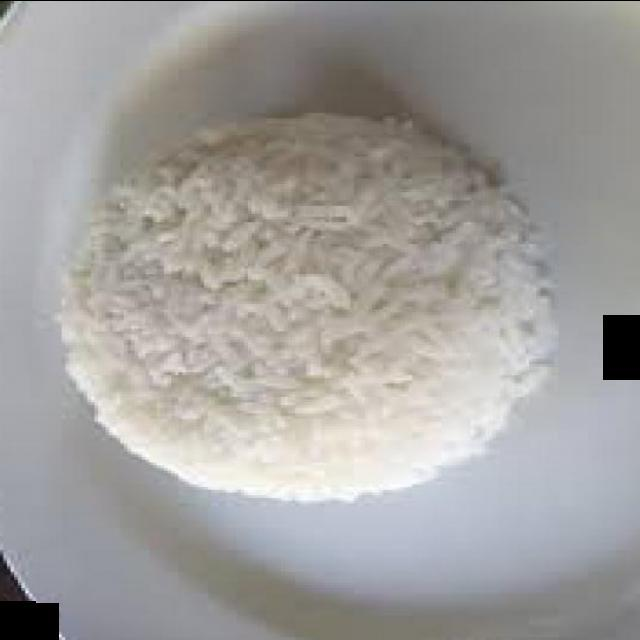rice: (55, 115, 552, 502)
